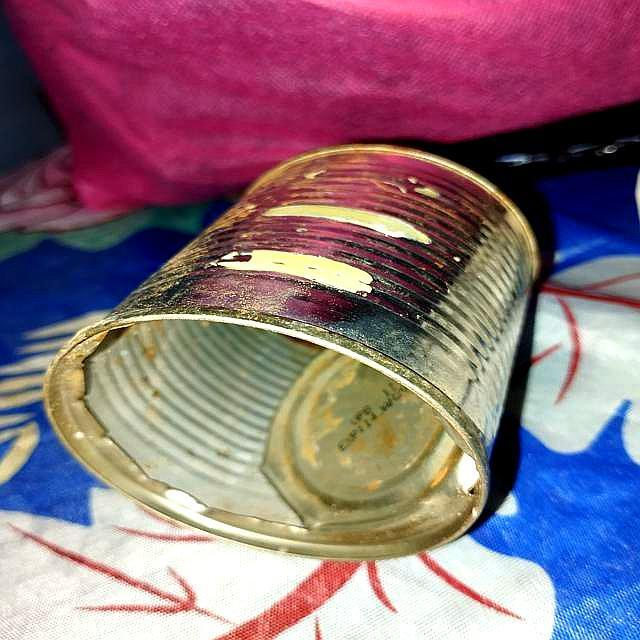Non-biodegradable: (41, 141, 545, 563)
